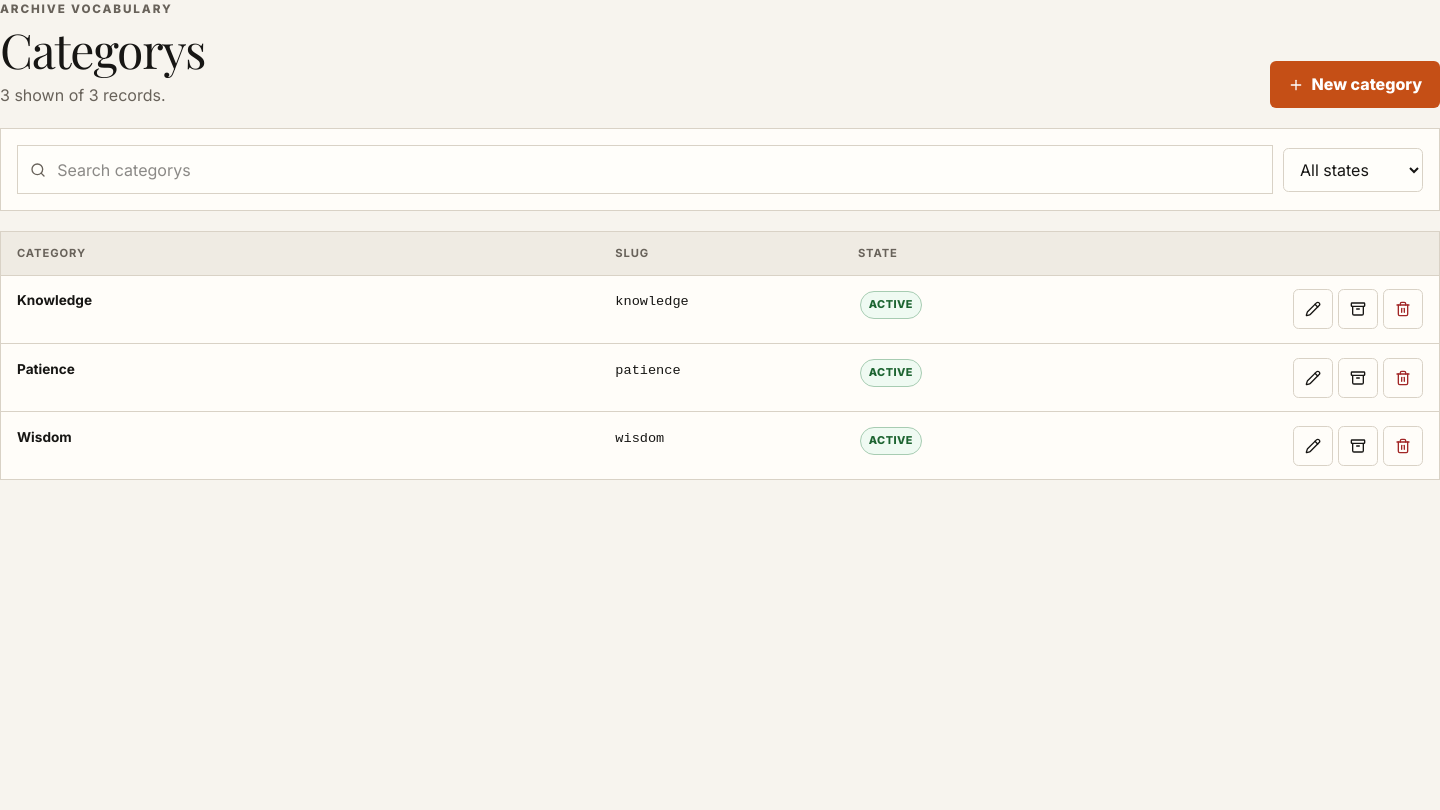
Test: admin taxonomy forms › names and describes parent category errors
Click the button named "Edit Knowledge" at (1313, 310), box left=1293, top=290, right=1333, bottom=330
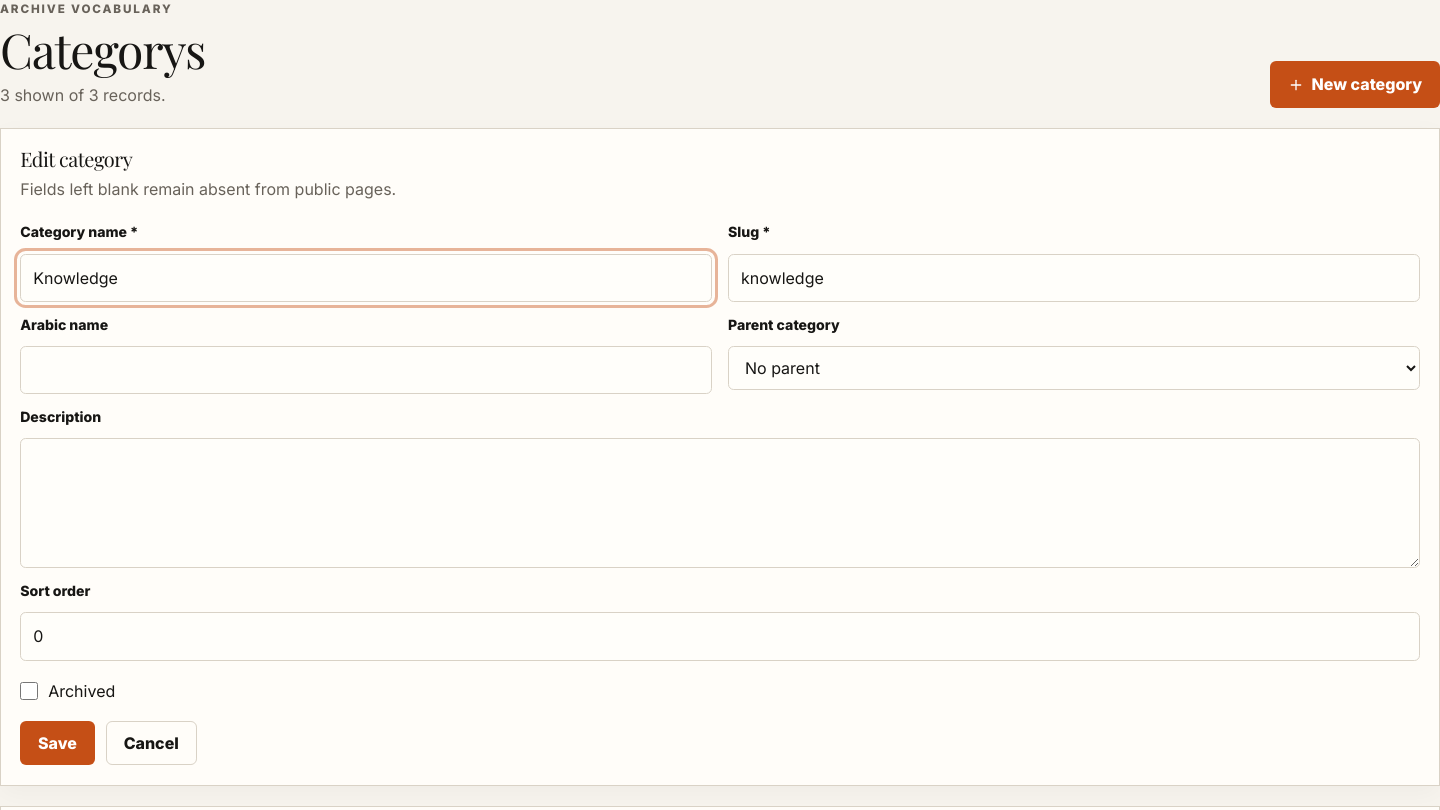
Submit the form "Edit category"
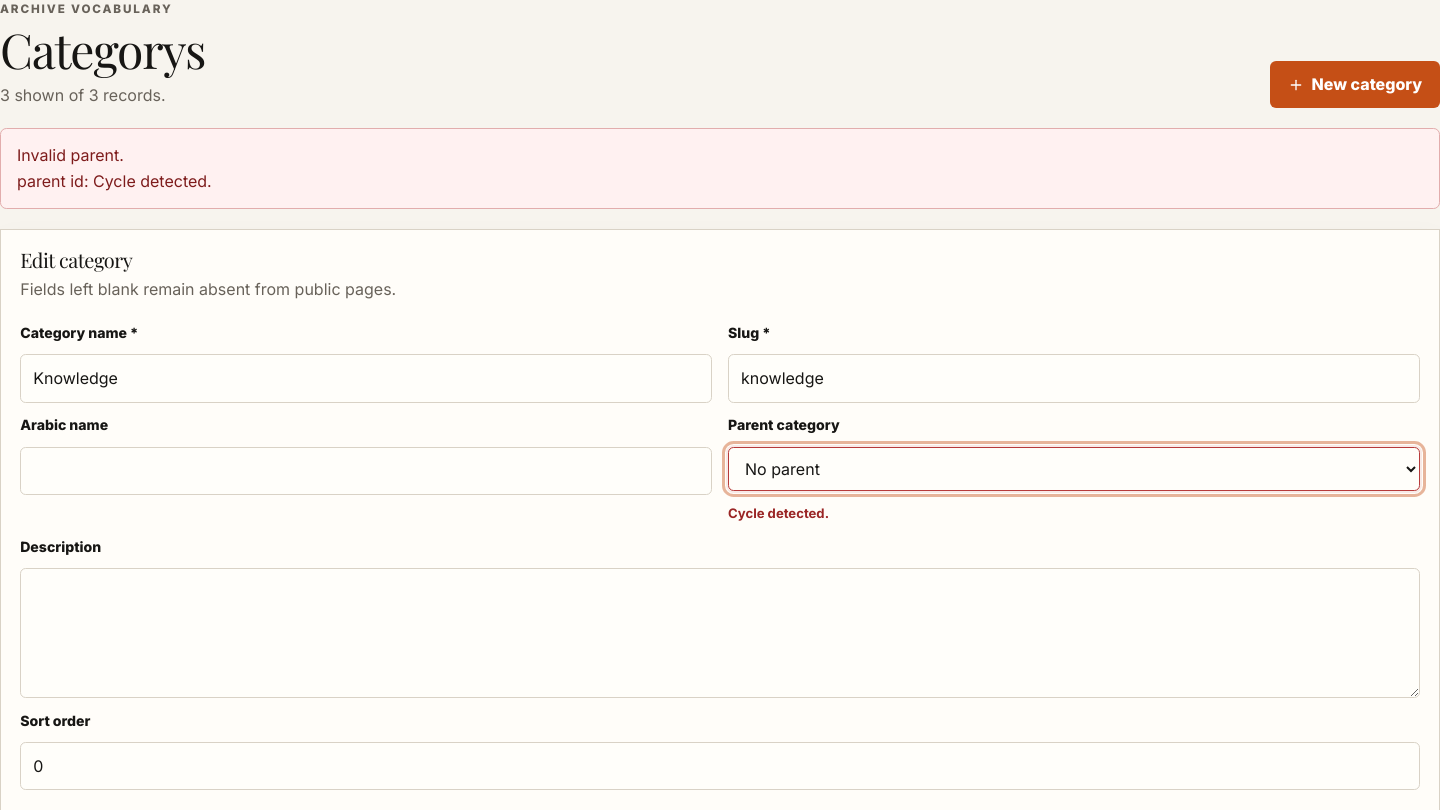
Expected: the message "Invalid parent. parent id: Cycle detected." is shown, left=0, top=128, right=1439, bottom=209
Expected: the text "Cycle detected." is shown, left=728, top=504, right=829, bottom=520
